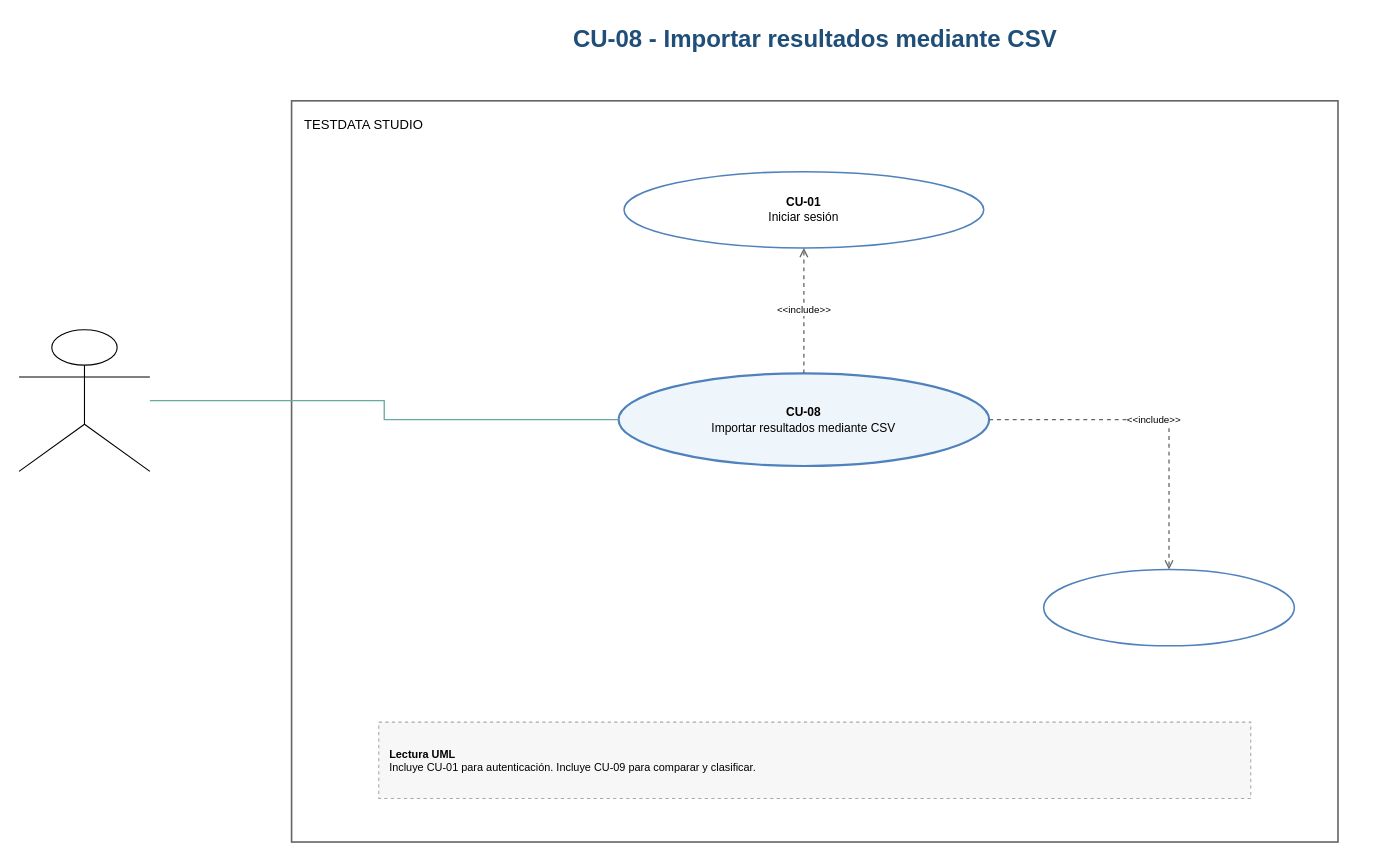
Image size: 1379x861. Some labels were removed from this diagram. The centre of each missing label's shape, as x and y in pixels:
"Analista/Tester" belongs at [84,400].
"CU-09 Comparar y clasificar resultados" belongs at [1168,607].
